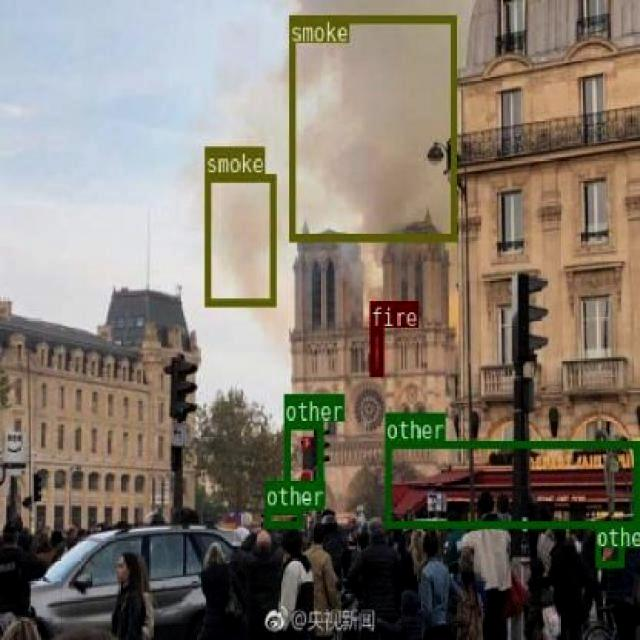fire: (370, 327, 382, 375)
smoke: (288, 14, 454, 240), (204, 173, 276, 304)
